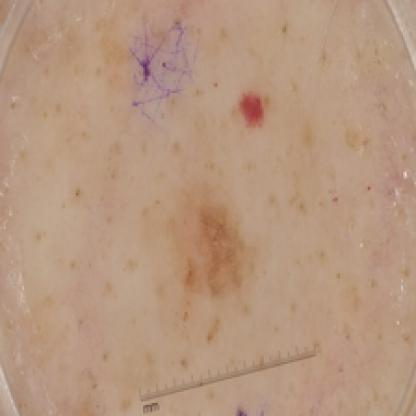malignant: (158, 188, 277, 306), (232, 89, 286, 149)
